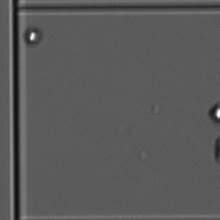Living Cell: (22, 29, 40, 44)
